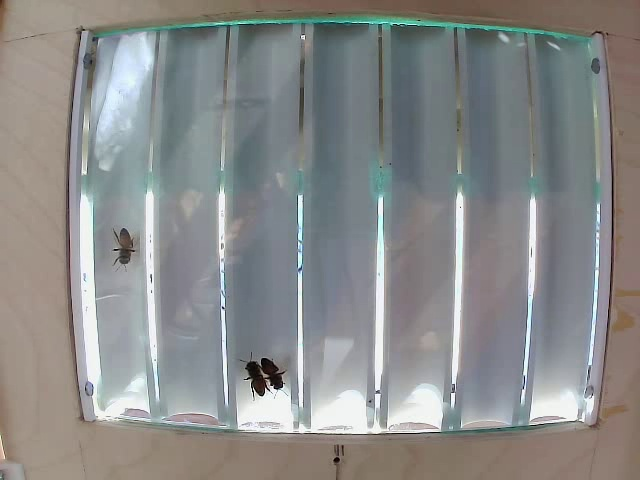bee: (109, 224, 145, 276), (262, 347, 290, 402), (239, 350, 268, 389)
